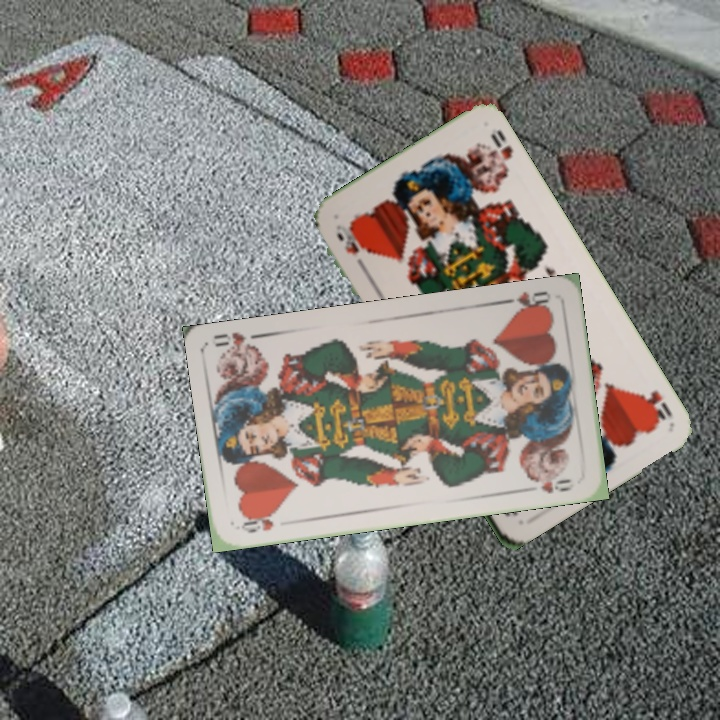HO: (332, 224, 369, 273), (634, 386, 675, 427), (496, 287, 552, 316), (234, 508, 279, 536)
